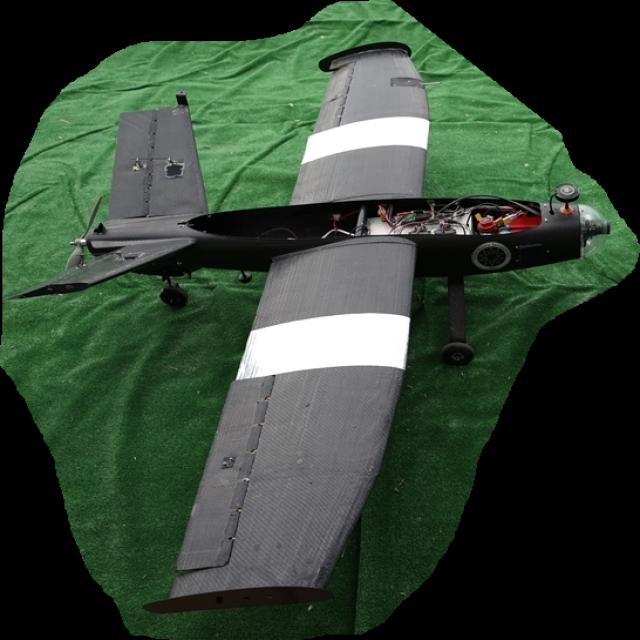iha: (0, 2, 608, 611)
